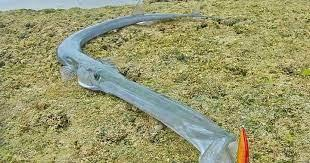Fistularia commersonii: (55, 1, 250, 162)
